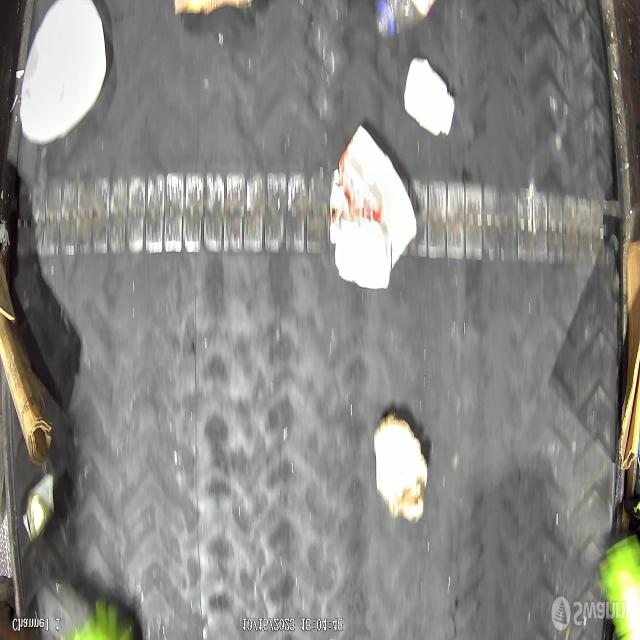can: (24, 473, 56, 542)
milk_jug: (20, 0, 109, 145)
